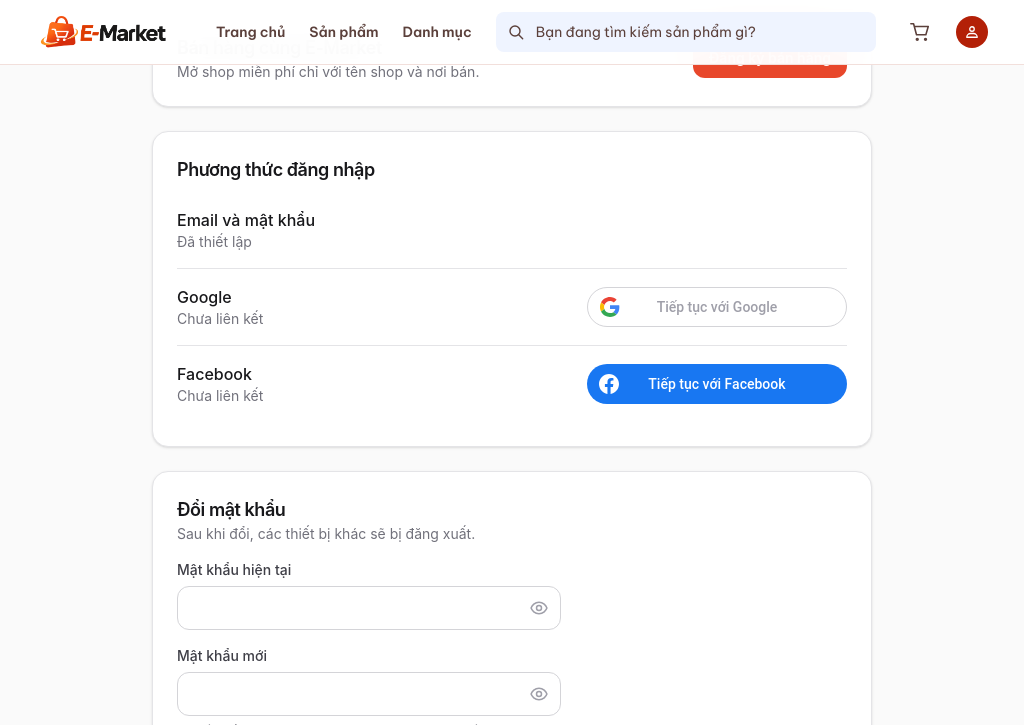
Scenario: Liên kết Facebook ở trang tài khoản › liên kết rồi hiện trạng thái đã liên kết
The width and height of the screenshot is (1024, 725).
(page scrolled)
Click the button "Tiếp tục với Facebook".
click(717, 384)  # box [587, 364, 847, 404]
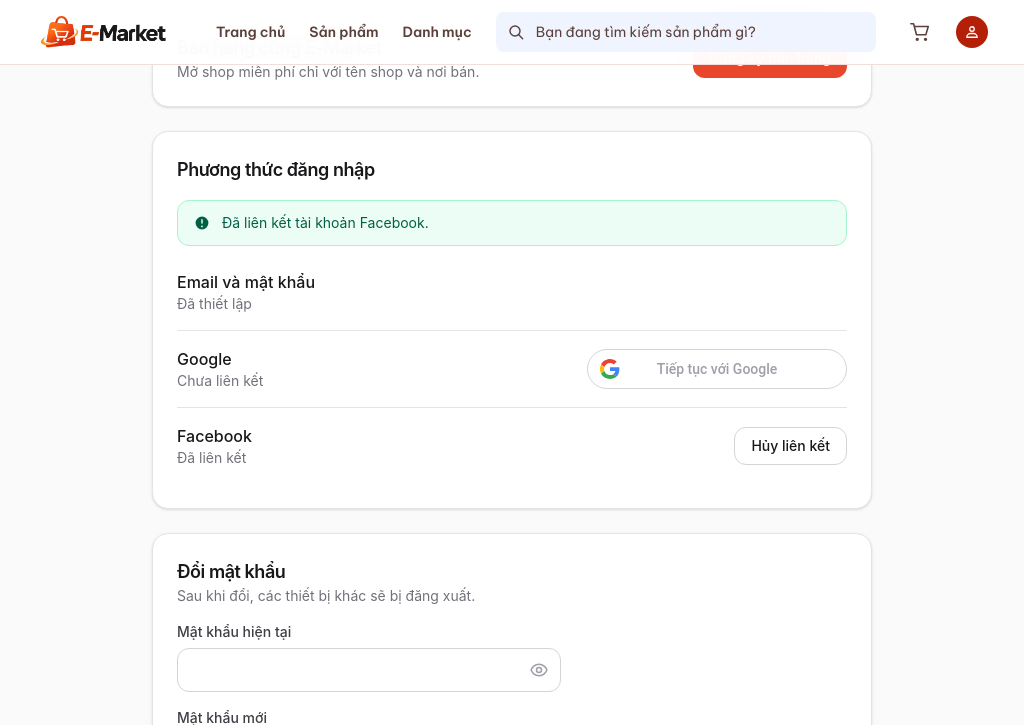
Expected: the text "Đã liên kết tài khoản Facebook." is shown, [222, 213, 429, 233]
Expected: the button with aria-label "Hủy liên kết Facebook" is enabled, [734, 427, 847, 465]
